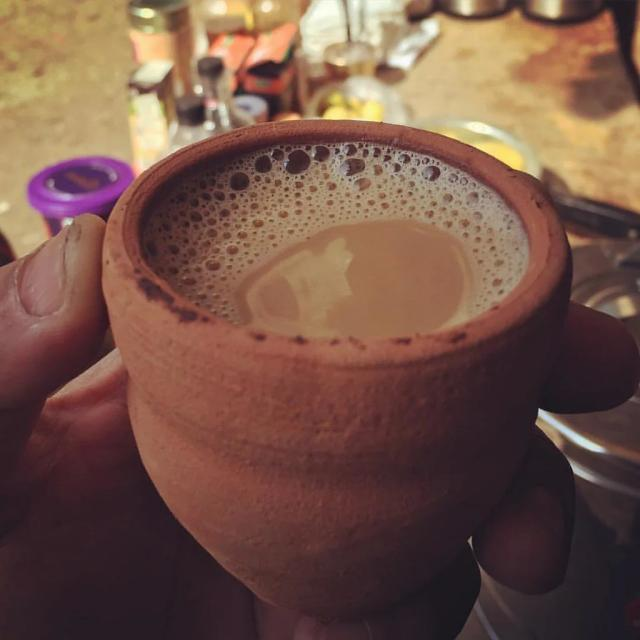Chai: (136, 132, 527, 358)
